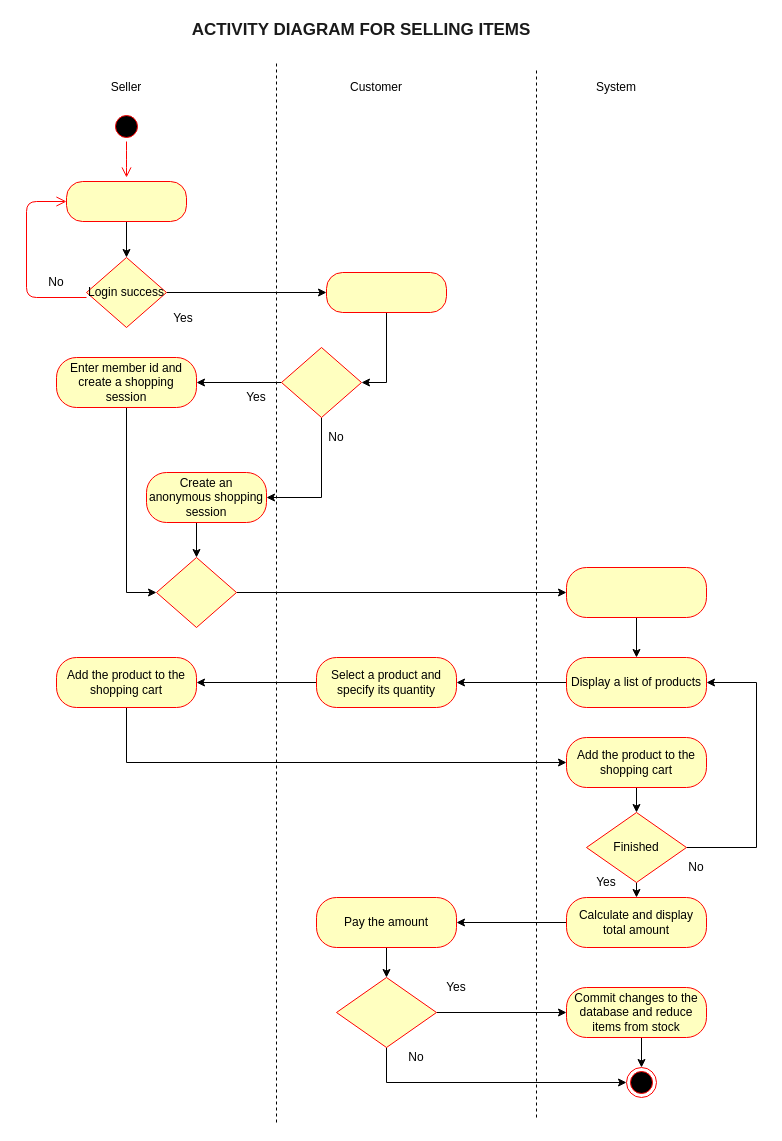
Some shapes in this 782 by 1141 pixel diagram are drawn without their labels. The shapes that lost their labels are listed below. From the top down, each one's centre as x and y in pixels, then its label:
At point 126,201: "Login to the system".
At point 386,292: "Tell member id".
At point 321,382: "Is member".
At point 636,592: "Create a register (shopping session)".
At point 386,1012: "Amount paid".
